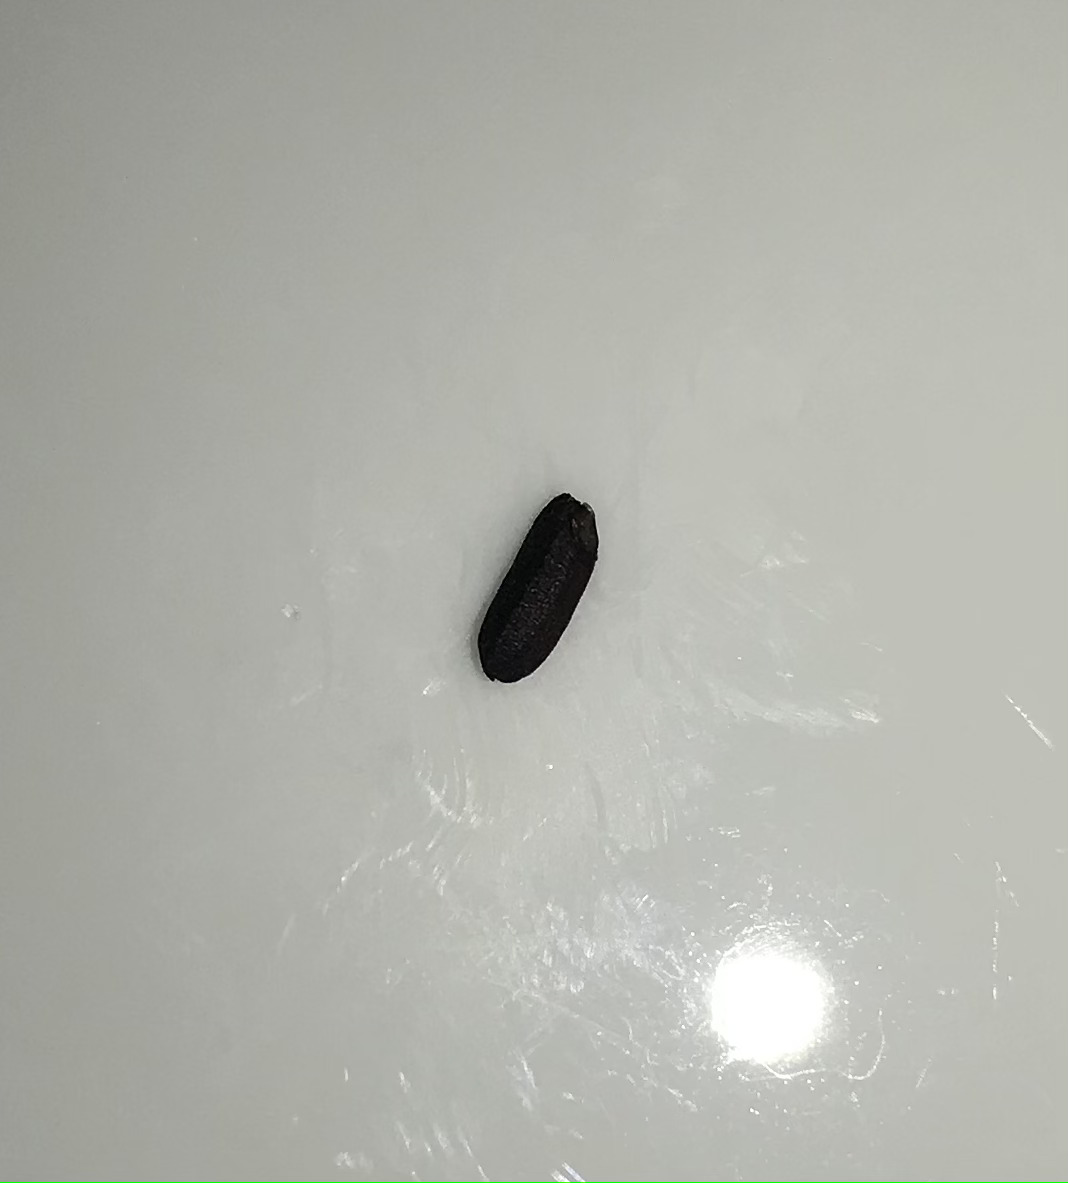Gao lut: (481, 492, 602, 689)
